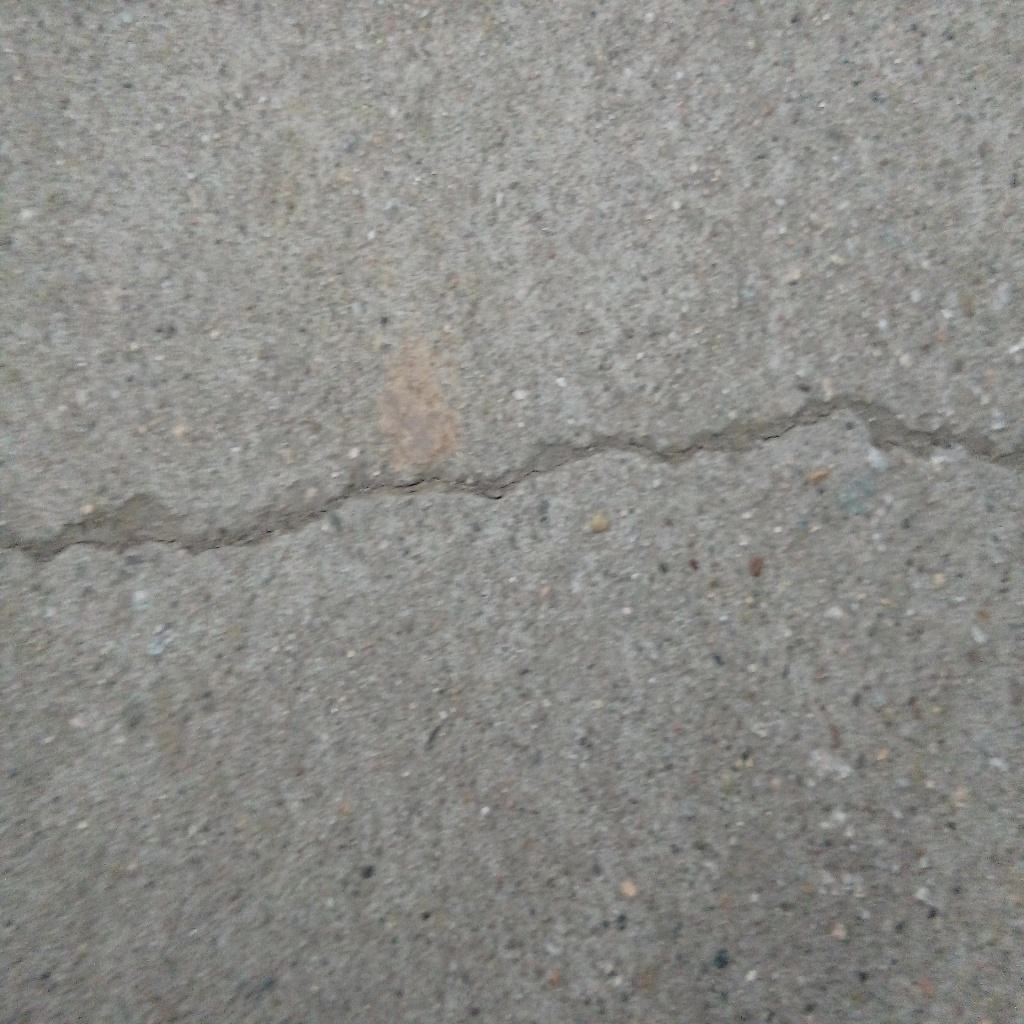Crack: (1, 391, 1024, 567)
